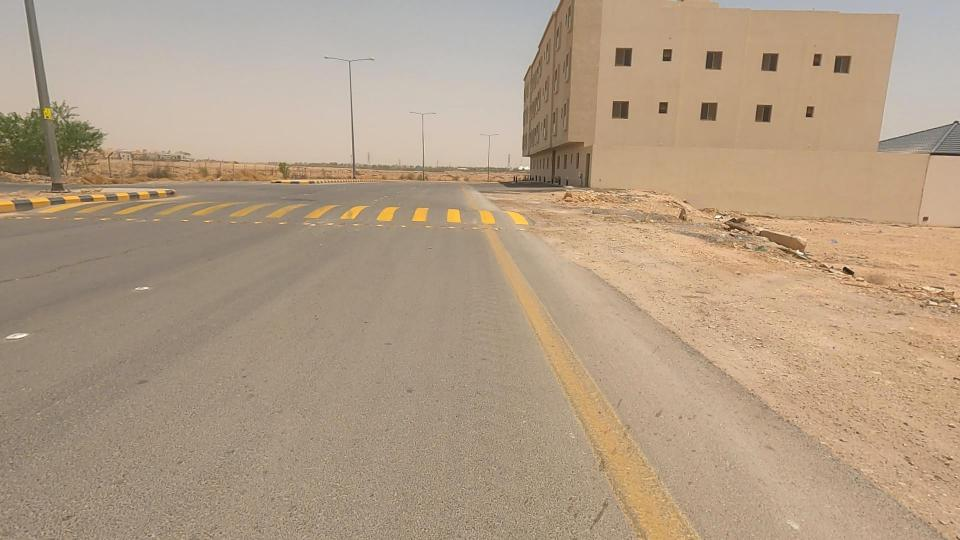GARBAGE: (666, 178, 886, 301)
SAND_ON_ROAD: (537, 161, 720, 237)
